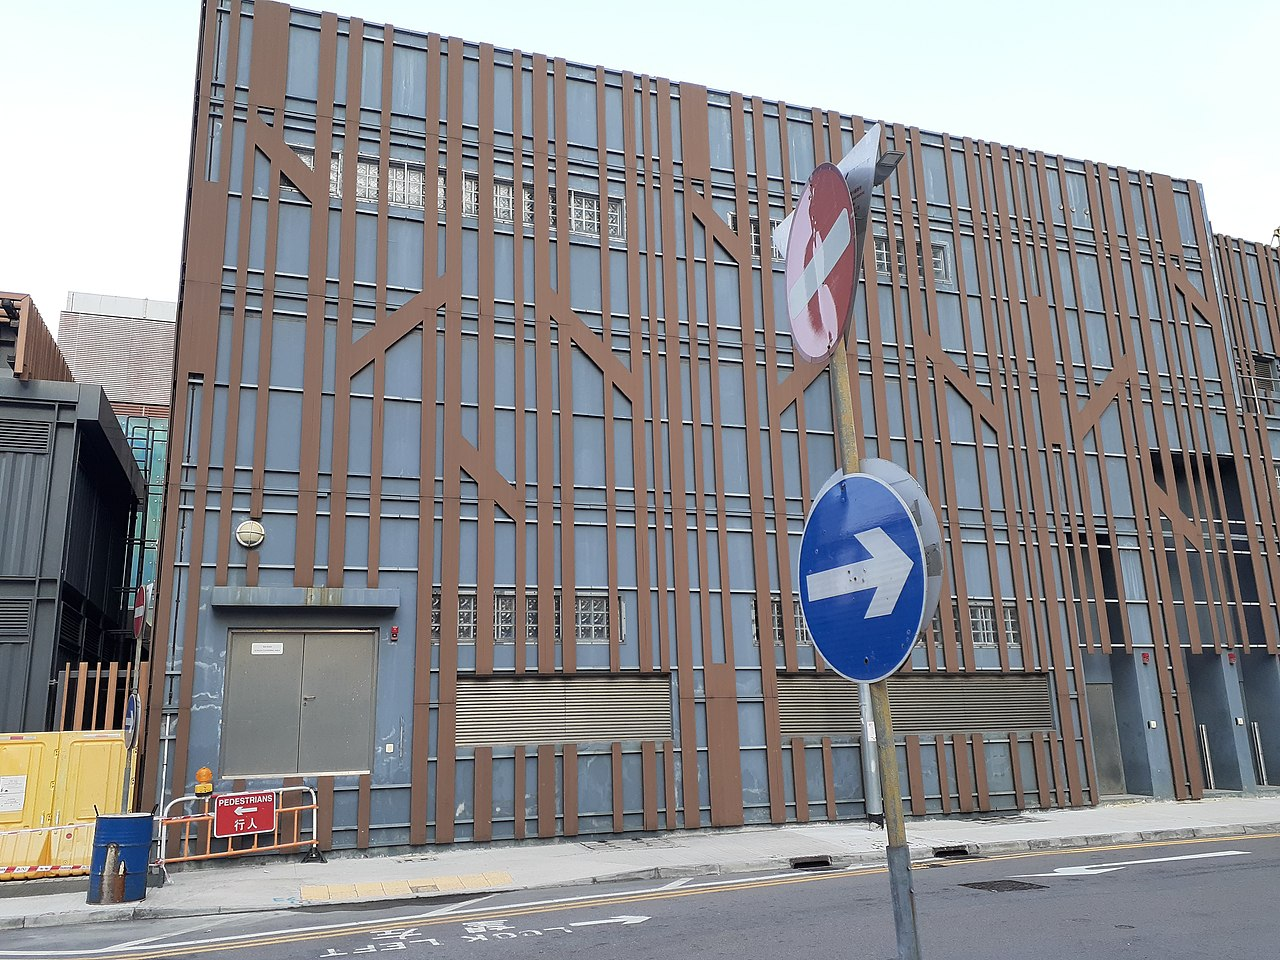No Enter: (759, 152, 870, 358), (132, 583, 147, 641)
Turn Right: (765, 468, 950, 685), (120, 694, 140, 749)
